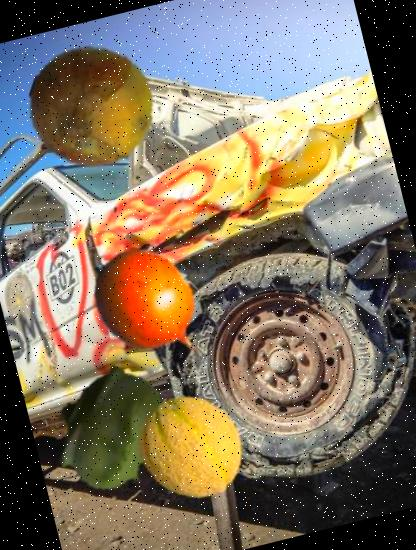Cantaloupe: (124, 381, 258, 514)
Granadilla: (70, 227, 236, 393)
Kohlrabi: (35, 353, 190, 508)
Onion: (16, 30, 167, 182)
